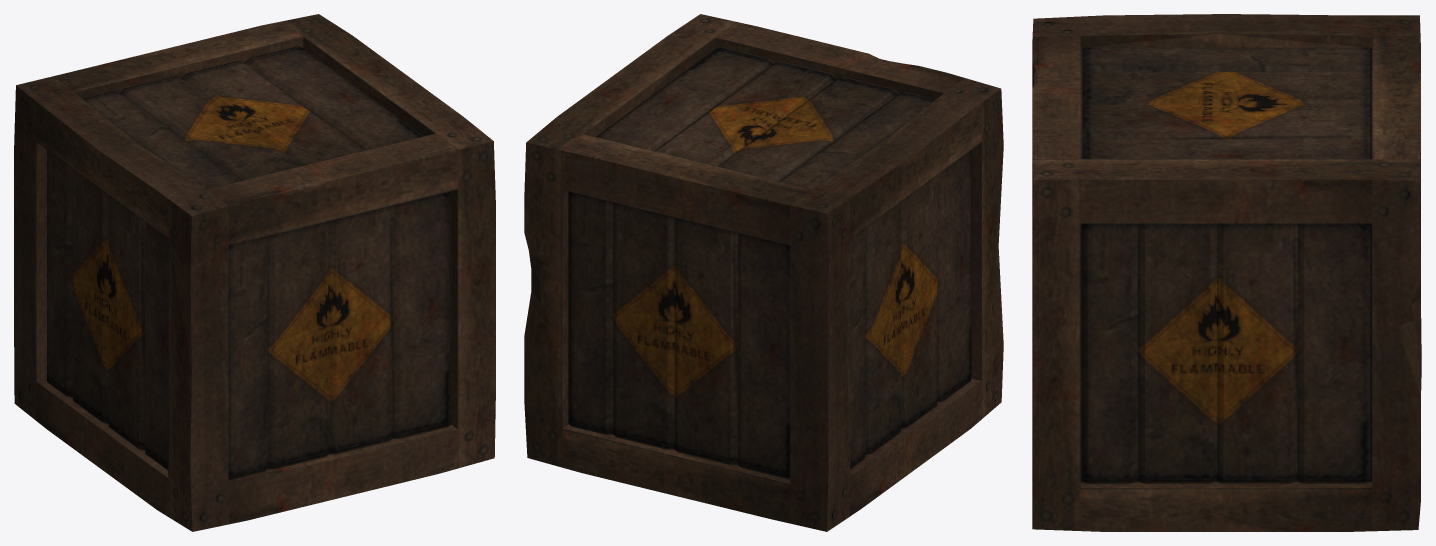
File: wooden_crate_4.dae
3 views of the same model, side by side, from view 1: azimuth 30°, elevation 25°; view 2: azimuth 150°, elevation 25°; view 3: azimuth 270°, elevation 25° (orthographic). The views are drawn at different scales.
Visible parts, largest first — view 1: wooden_crate_4; view 2: wooden_crate_4; view 3: wooden_crate_4.
Boxes of the visible parts, box(x1,y1,x2,y2) form: wooden_crate_4: box(14, 14, 495, 531); wooden_crate_4: box(524, 14, 1003, 531); wooden_crate_4: box(1032, 14, 1421, 531).
Size of the model in its own units: 1.09 by 1.08 by 1.08.
Materials: 1 (1 with a texture image).
